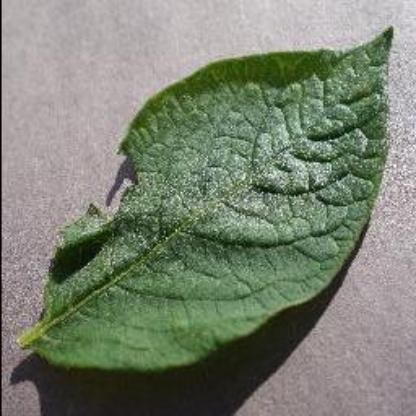Healthy-plant: (17, 20, 399, 380)
